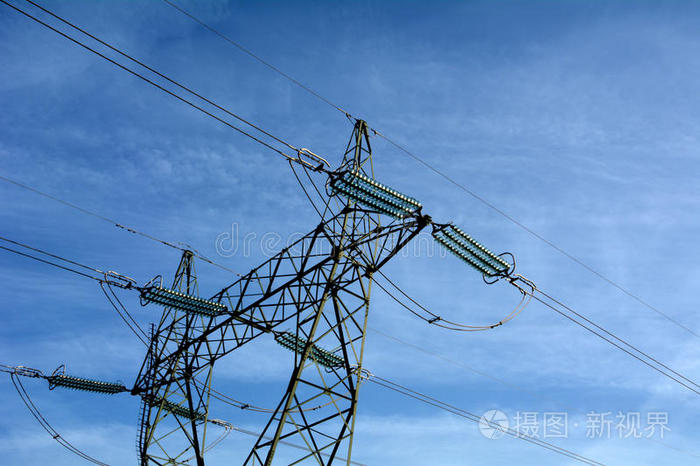insulator: (335, 167, 419, 219), (435, 224, 510, 278), (277, 332, 346, 373), (146, 284, 224, 319), (53, 373, 127, 397)
